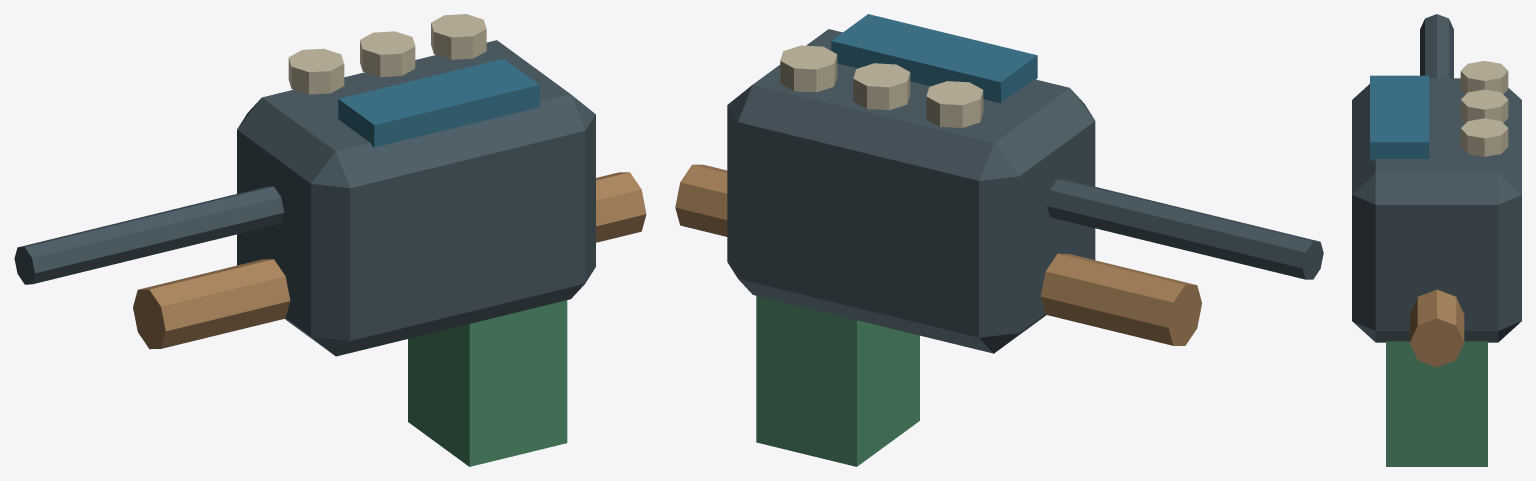
Rendered from set_pruning_shears.glb.
3 renders of one model, left to right at view 1: azimuth 30°, elevation 25°; view 2: azimuth 150°, elevation 25°; view 3: azimuth 270°, elevation 25°, orthographic. The views are drawn at different scales.
Parts seen in each view (by area): view 1: set_pruning_shears; view 2: set_pruning_shears; view 3: set_pruning_shears.
Boxes of the visible parts, bbox=[...] form: set_pruning_shears: bbox=[14, 14, 646, 466]; set_pruning_shears: bbox=[675, 14, 1323, 466]; set_pruning_shears: bbox=[1352, 14, 1521, 466].
Size of the model in its own units: 0.34 by 0.207 by 0.1.
